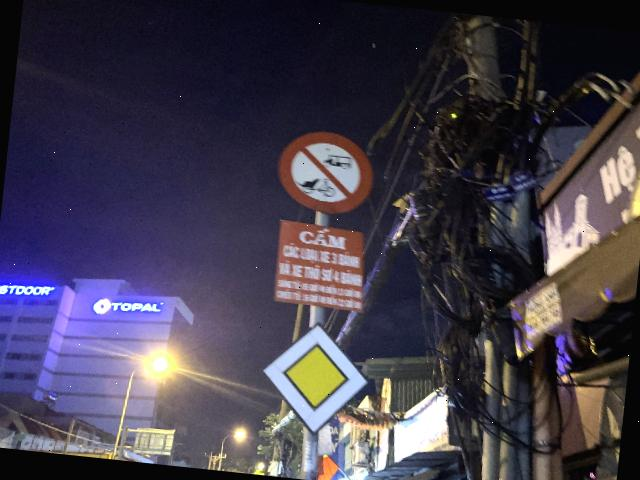bat-dau-duong-uu-tien: (256, 316, 377, 442)
cam-xe-3-banh-xe-tho-so-4-banh: (272, 126, 378, 220)
